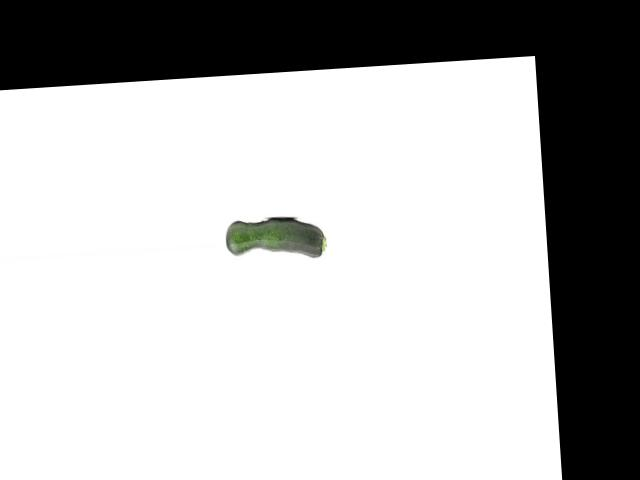cucumber: (225, 214, 328, 263)
